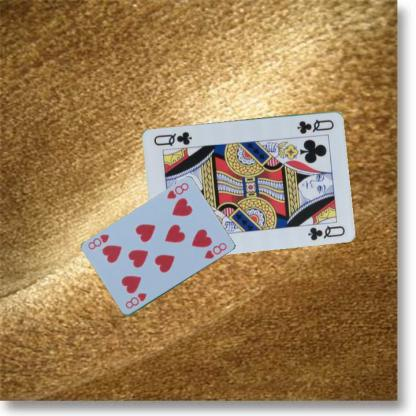8h: (164, 180, 190, 200), (122, 291, 148, 310)
Qc: (294, 116, 336, 135)
